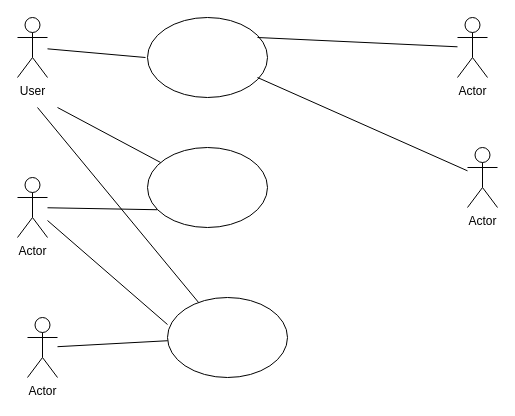
The diagram is 515 pixels wide and 416 high, and some of its shapes have lost their labels. The shapes that lost their labels are listed below. From the top down, each one's centre as x and y in pixels, then its label:
At point 207,57: "Rekomendasi film".
At point 207,187: "Preferensi".
At point 227,337: "Grouping".
